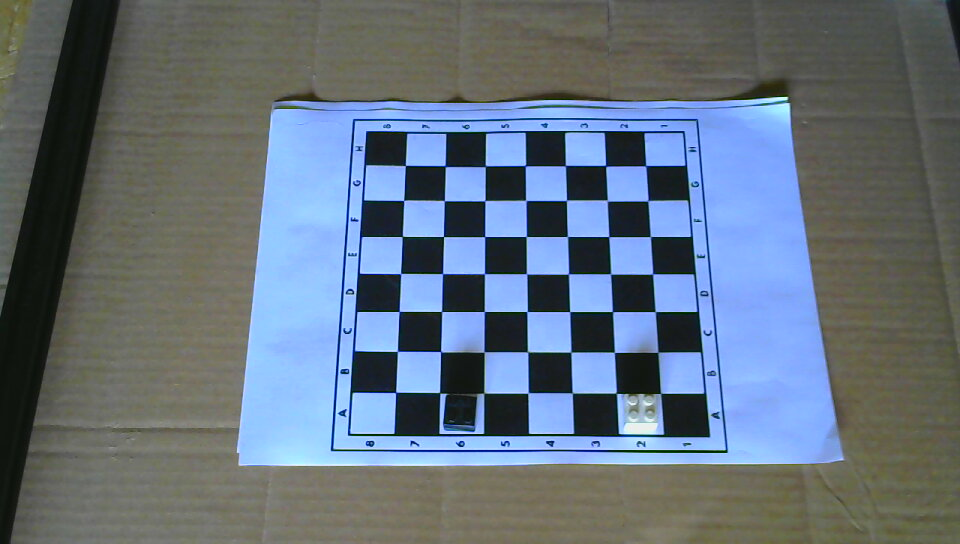bp: (443, 392, 478, 433)
wp: (621, 389, 659, 434)
